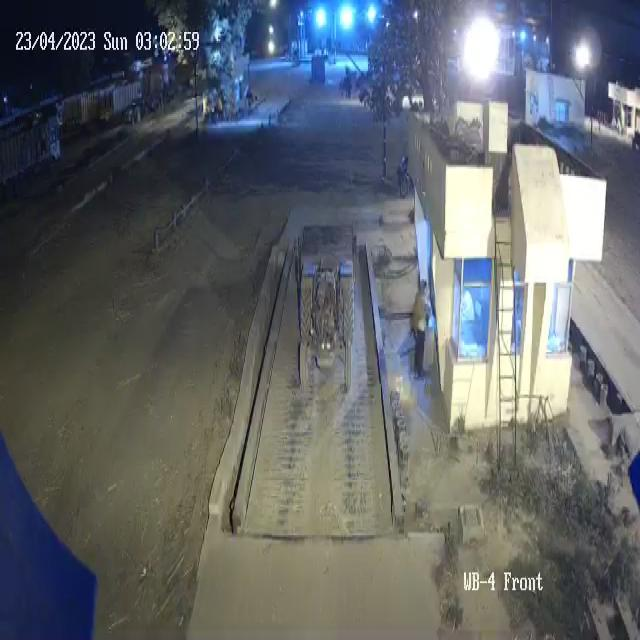Tratores - v5 YOLO V8L 2024-11-13: (294, 257, 359, 393)
